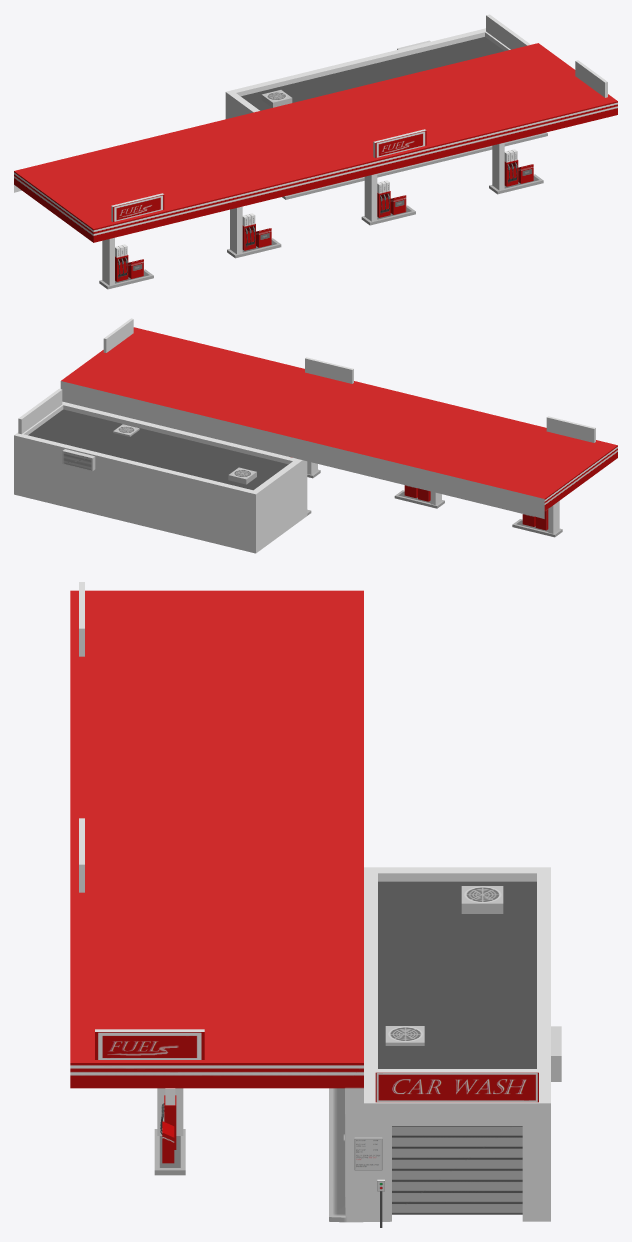
The model's file is estacion.obj.
The picture shows the model from 3 angles, top to bottom: view 1: azimuth 30°, elevation 25°; view 2: azimuth 150°, elevation 25°; view 3: azimuth 270°, elevation 25°; orthographic projection. The views are drawn at different scales.
Visible parts, largest first — view 1: gasstation_red_Plane.004, gasstation_red_Plane.001, gas_pump_red_Plane.005, gas_pump_red_Plane.001; view 2: gasstation_red_Plane.004, gasstation_red_Plane.001, gas_pump_red_Plane.001; view 3: gasstation_red_Plane.004, gasstation_red_Plane.001, gas_pump_red_Plane.005.
Part boxes in pixels (left/top/right/bottom): gasstation_red_Plane.004: left=225, top=14, right=617, bottom=199; gasstation_red_Plane.001: left=14, top=107, right=355, bottom=242; gas_pump_red_Plane.005: left=361, top=142, right=543, bottom=225; gas_pump_red_Plane.001: left=99, top=206, right=281, bottom=289; gasstation_red_Plane.004: left=14, top=318, right=375, bottom=553; gasstation_red_Plane.001: left=302, top=386, right=617, bottom=518; gas_pump_red_Plane.001: left=394, top=485, right=562, bottom=537; gasstation_red_Plane.004: left=70, top=818, right=561, bottom=1227; gasstation_red_Plane.001: left=70, top=582, right=363, bottom=826; gas_pump_red_Plane.005: left=154, top=1088, right=185, bottom=1175.
Bounding box in the file's own units: 32.47 × 5.94 × 14.09.
Materials: 4 (4 with a texture image).
